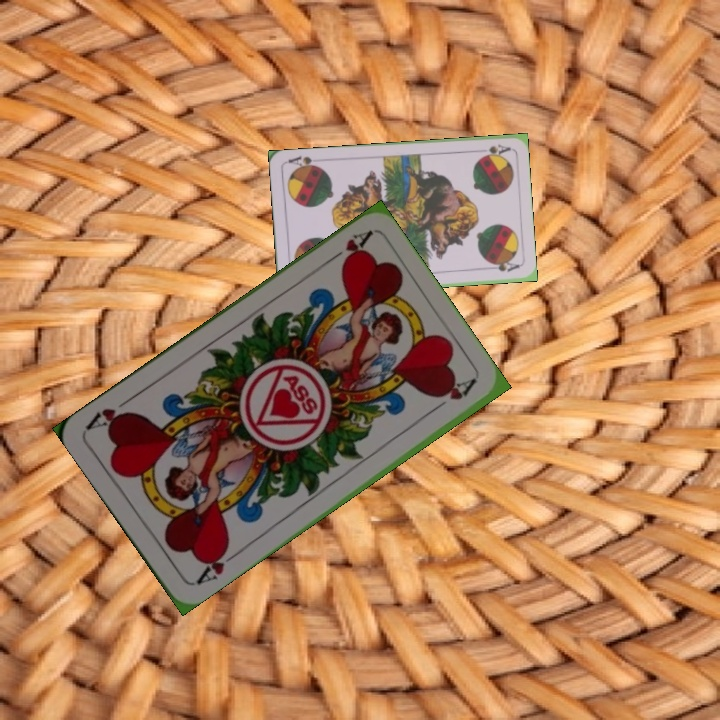HA: (191, 542, 242, 588), (321, 227, 374, 268)
SA: (477, 140, 512, 159)
